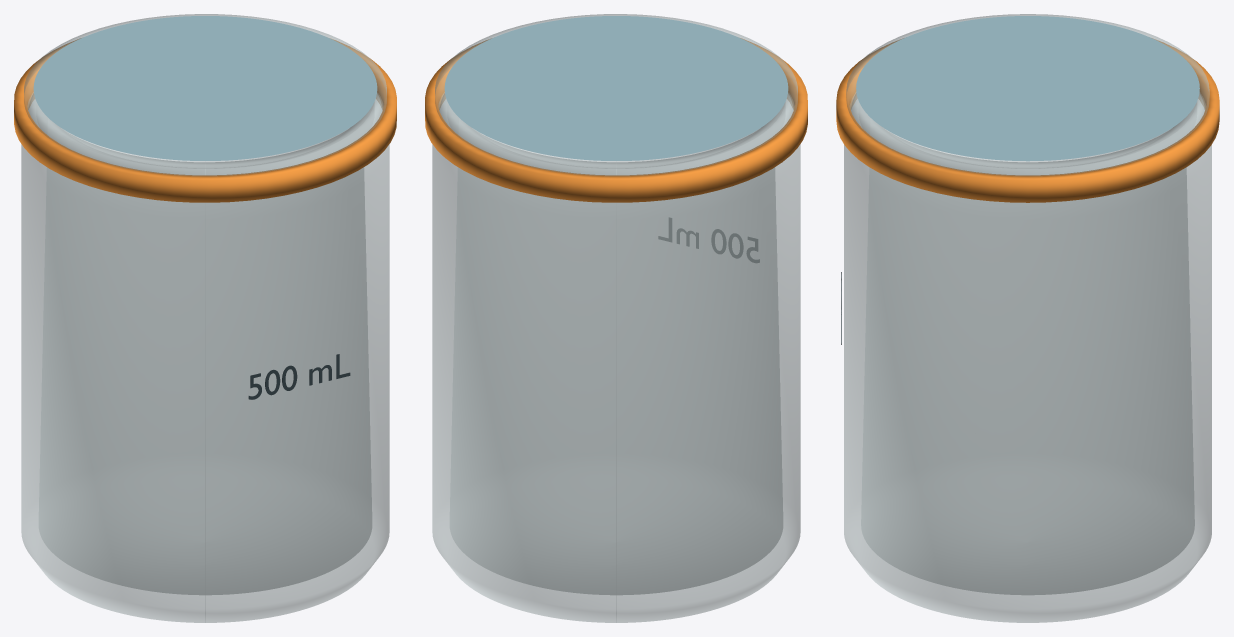
Rendered from jar.glb.
3 renders of one model, left to right at view 1: azimuth 30°, elevation 25°; view 2: azimuth 150°, elevation 25°; view 3: azimuth 270°, elevation 25°, orthographic.
Visible parts, largest first — view 1: Rigid 500 mL gas jar, membrane, Membrane retaining band, Rolled glass rim, Jar volume; view 2: Rigid 500 mL gas jar, membrane, Membrane retaining band, Rolled glass rim, Jar volume; view 3: Rigid 500 mL gas jar, membrane, Membrane retaining band, Rolled glass rim.
Part boxes in pixels (<box>): Rigid 500 mL gas jar: <box>21,93,389,622</box>; membrane: <box>33,16,377,160</box>; Membrane retaining band: <box>14,38,396,202</box>; Rolled glass rim: <box>24,14,386,175</box>; Jar volume: <box>248,354,350,399</box>; Rigid 500 mL gas jar: <box>432,93,800,622</box>; membrane: <box>444,16,788,160</box>; Membrane retaining band: <box>425,38,807,202</box>; Rolled glass rim: <box>435,14,797,175</box>; Jar volume: <box>659,218,759,262</box>; Rigid 500 mL gas jar: <box>844,93,1211,622</box>; membrane: <box>856,16,1199,161</box>; Membrane retaining band: <box>836,39,1219,202</box>; Rolled glass rim: <box>846,14,1209,175</box>.
Bounding box in the file's own units: 0.156 × 0.214 × 0.156.
